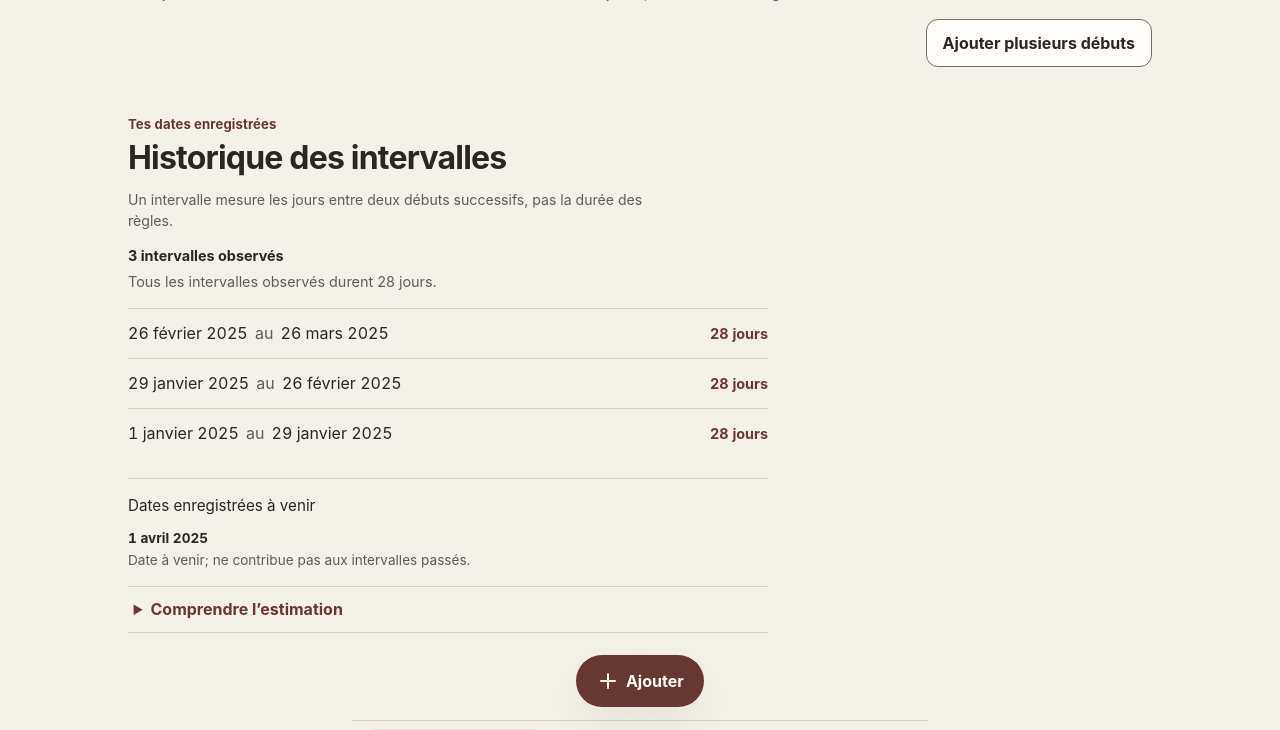
PeriodPeriods app › shows the median and its uncertainty after three intervals and marks the estimate in the calendar
This screenshot has width=1280, height=730.
(page scrolled)
Click the heading "Comprendre l’estimation". click: (247, 609)
box: left=150, top=599, right=343, bottom=619
(page scrolled)
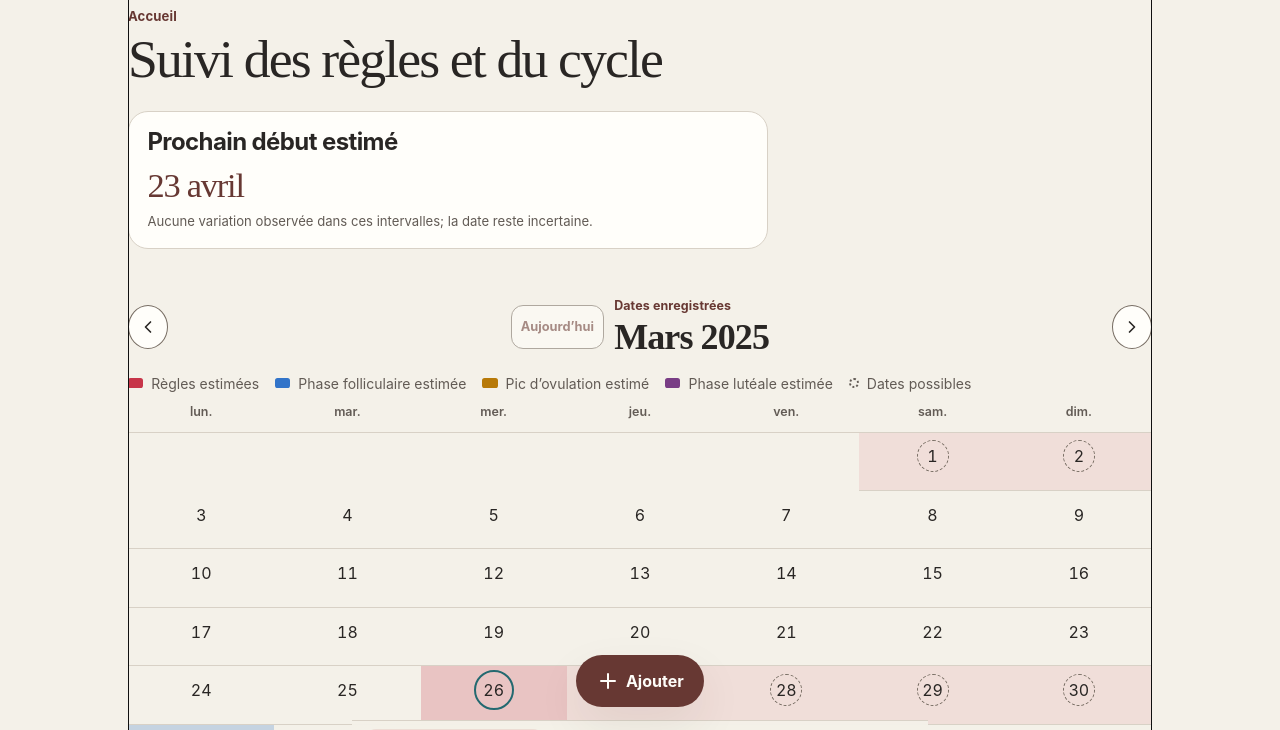
Click the button named "Mois suivant". click: (1132, 327)
box: left=1112, top=305, right=1152, bottom=349
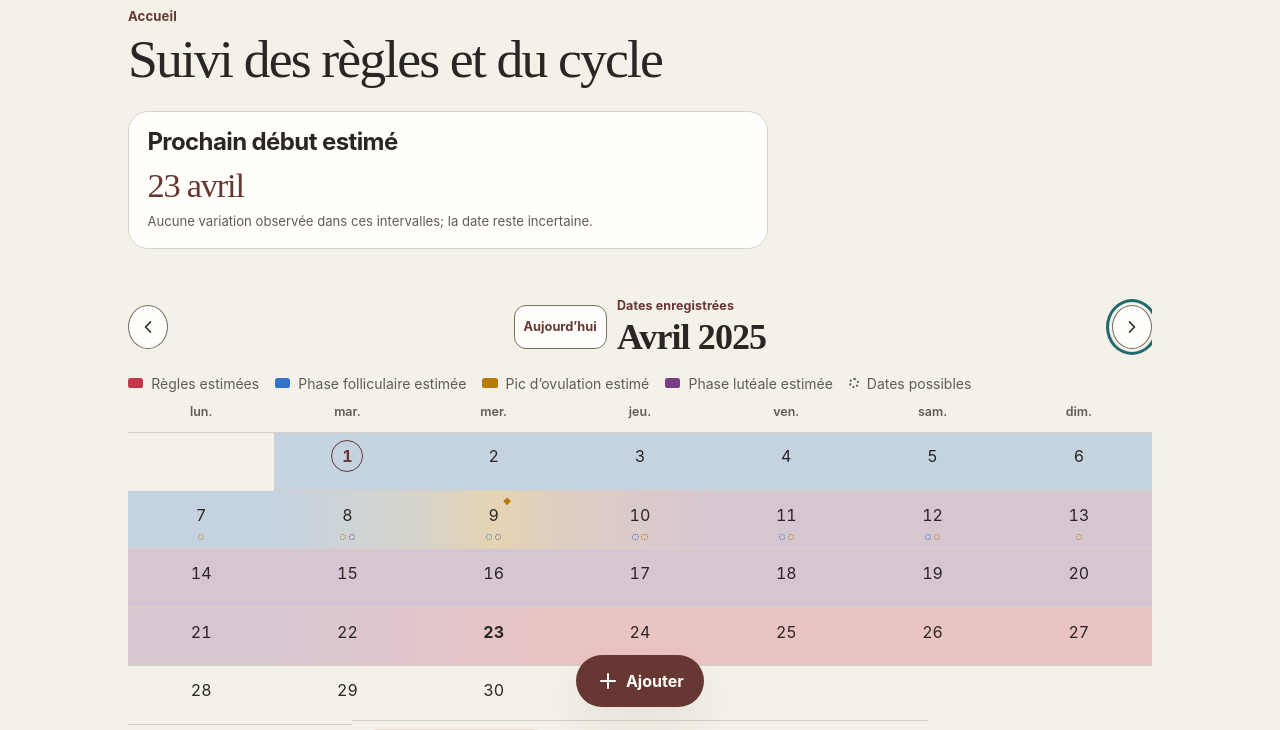
Expected: the element named "Date centrale estimée le 23 avril 2025" is shown, left=483, top=622, right=504, bottom=642
